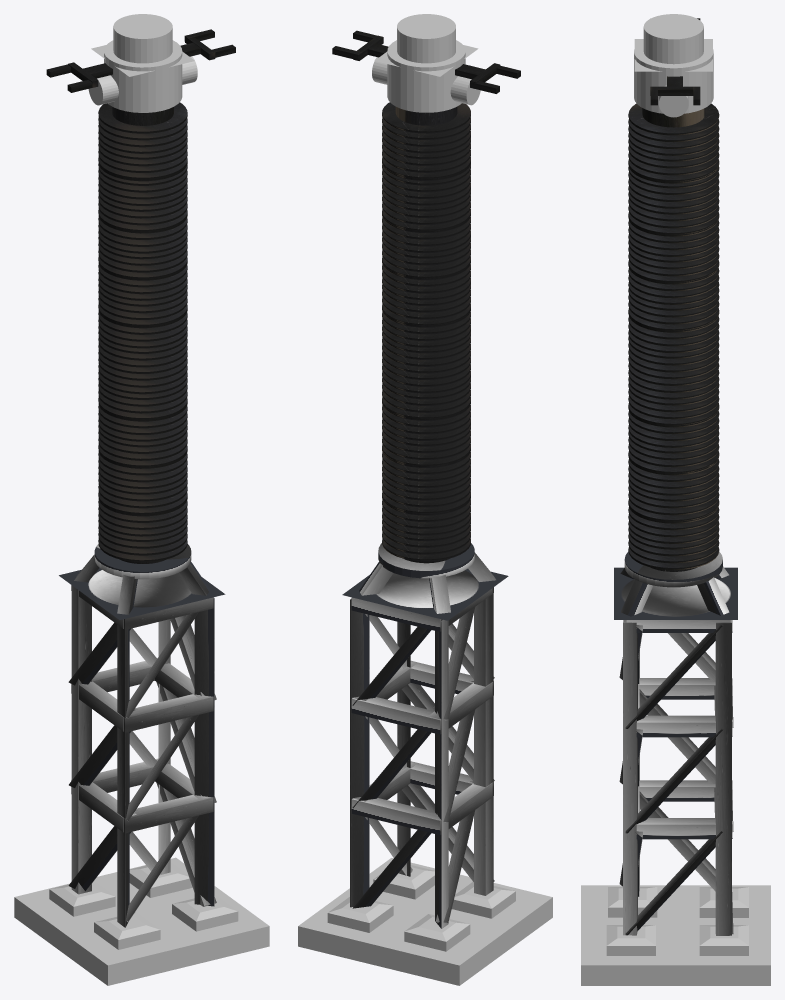
Rendered from torre12.fbx.
3 renders of one model, left to right at view 1: azimuth 30°, elevation 25°; view 2: azimuth 150°, elevation 25°; view 3: azimuth 270°, elevation 25°, orthographic.
Visible parts, largest first — view 1: Cylinder.090; view 2: Cylinder.090; view 3: Cylinder.090.
Part boxes in pixels (box(x1,y1,x2,y2)): Cylinder.090: box(14, 14, 269, 985); Cylinder.090: box(298, 14, 552, 985); Cylinder.090: box(581, 14, 770, 985).
Bounding box in the file's own units: 133 × 700 × 131.
